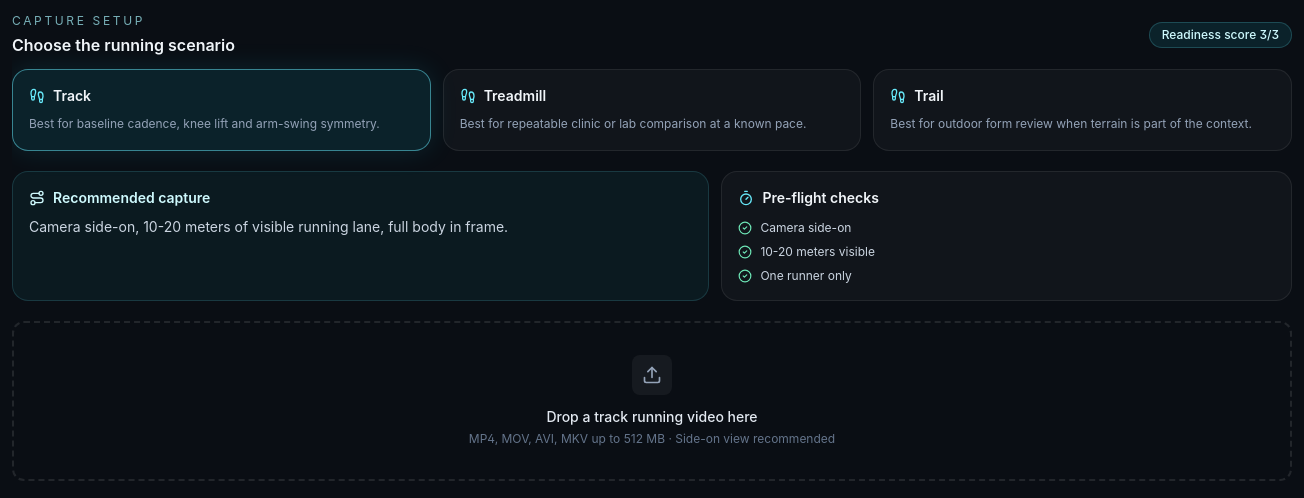
RunningUploader › shows scenario guidance and readiness checks before upload
Expected: the text "Readiness score 3/3" is shown, x1=1149 y1=22 x2=1292 y2=48
Expected: the text "10-20 meters" is shown, x1=29 y1=218 x2=508 y2=234
Click the button "Treadmill". click: (515, 96)
box: x1=443 y1=69 x2=861 y2=150
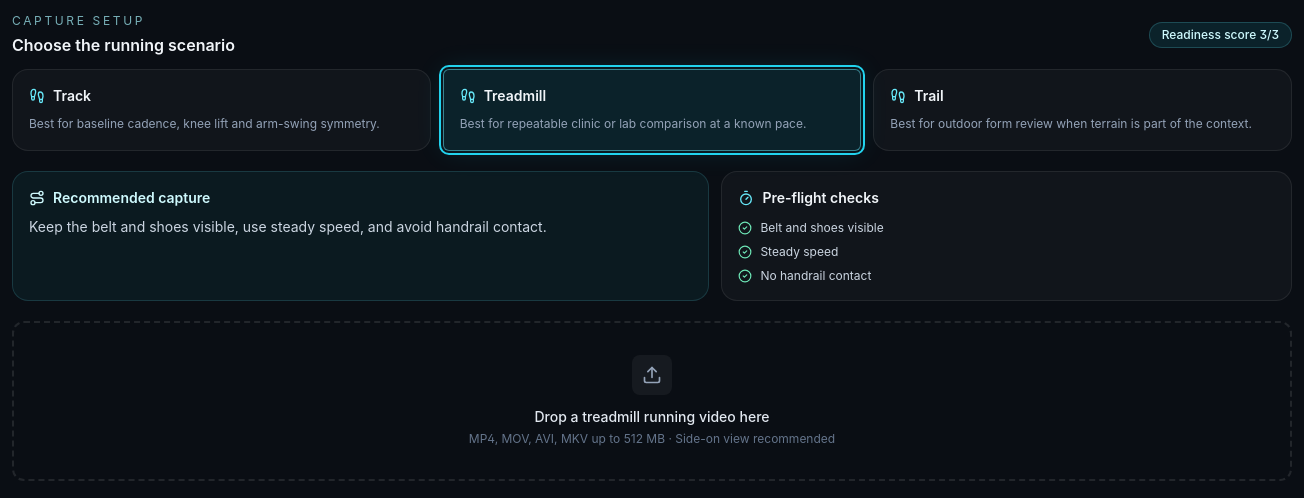
Now the text "steady speed" is shown, box x1=29 y1=218 x2=547 y2=234
